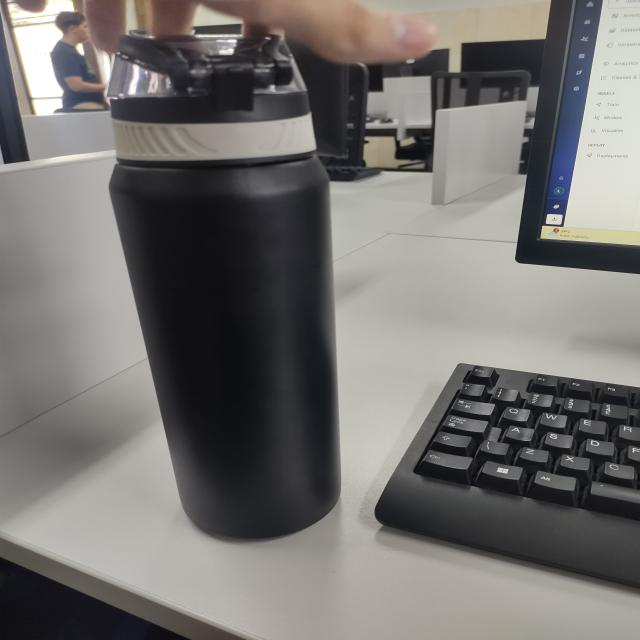Garrafa: (104, 27, 343, 544)
